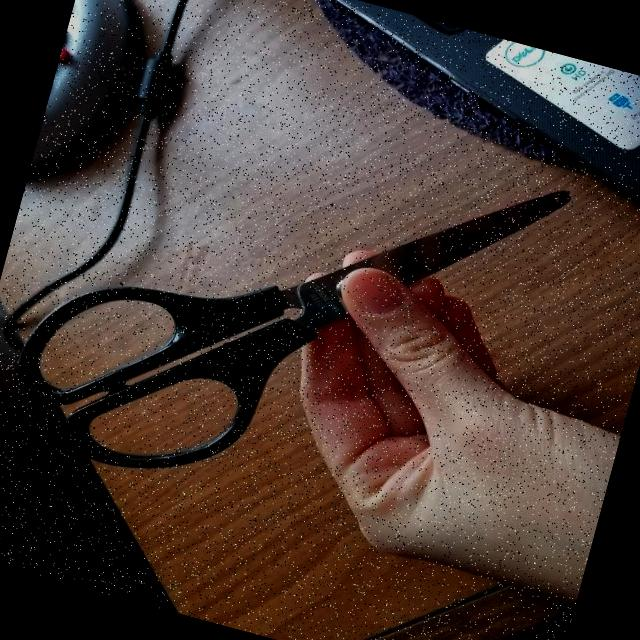scissors: (0, 174, 586, 499)
